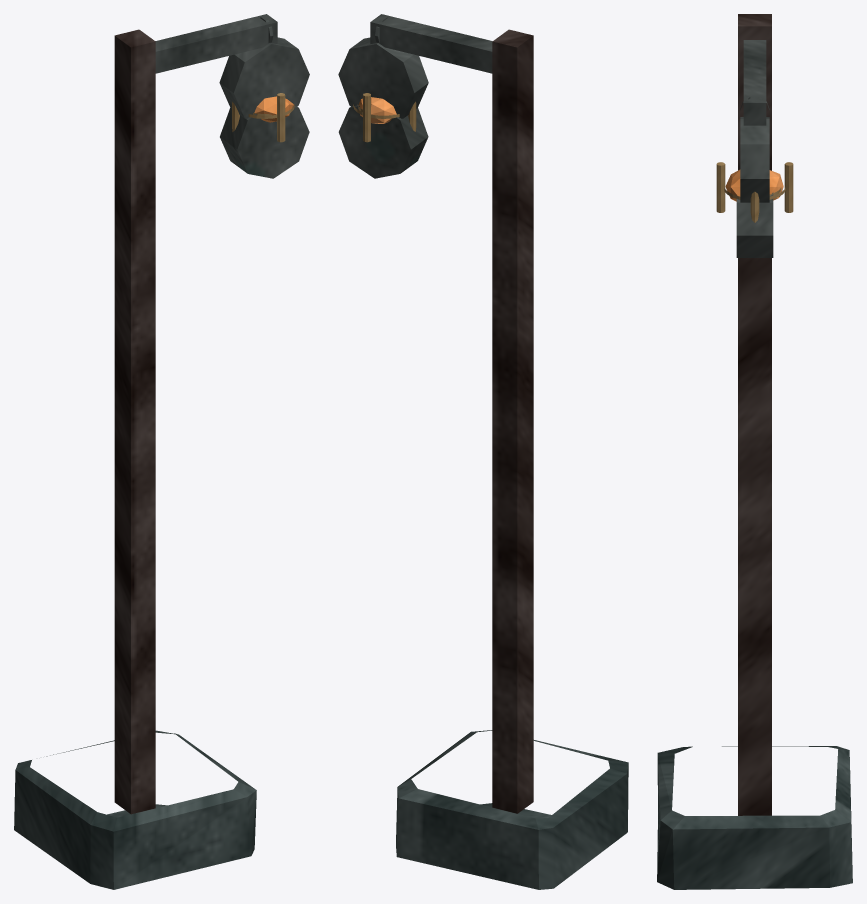
Rendered from 0708_lantern_post_08.glb.
3 renders of one model, left to right at view 1: azimuth 30°, elevation 25°; view 2: azimuth 150°, elevation 25°; view 3: azimuth 270°, elevation 25°, orthographic. The views are drawn at different scales.
Parts seen in each view (by area): view 1: wood_dark, stone_dark, iron, brass; view 2: wood_dark, stone_dark, iron, brass; view 3: wood_dark, stone_dark, iron, brass, amber.
Part boxes in pixels (x1,y1,x2,y2): wood_dark: (114, 29, 155, 814); stone_dark: (14, 730, 256, 889); iron: (155, 14, 309, 178); brass: (232, 93, 294, 142); wood_dark: (492, 29, 533, 813); stone_dark: (396, 730, 628, 889); iron: (338, 14, 492, 178); brass: (353, 93, 416, 142); wood_dark: (738, 14, 771, 815); stone_dark: (657, 746, 852, 889); iron: (736, 40, 773, 257); brass: (716, 162, 793, 222); amber: (725, 169, 783, 201).
Size of the model in its own units: 1.3 by 4.05 by 0.8614.
Materials: 5 (5 with a texture image).
